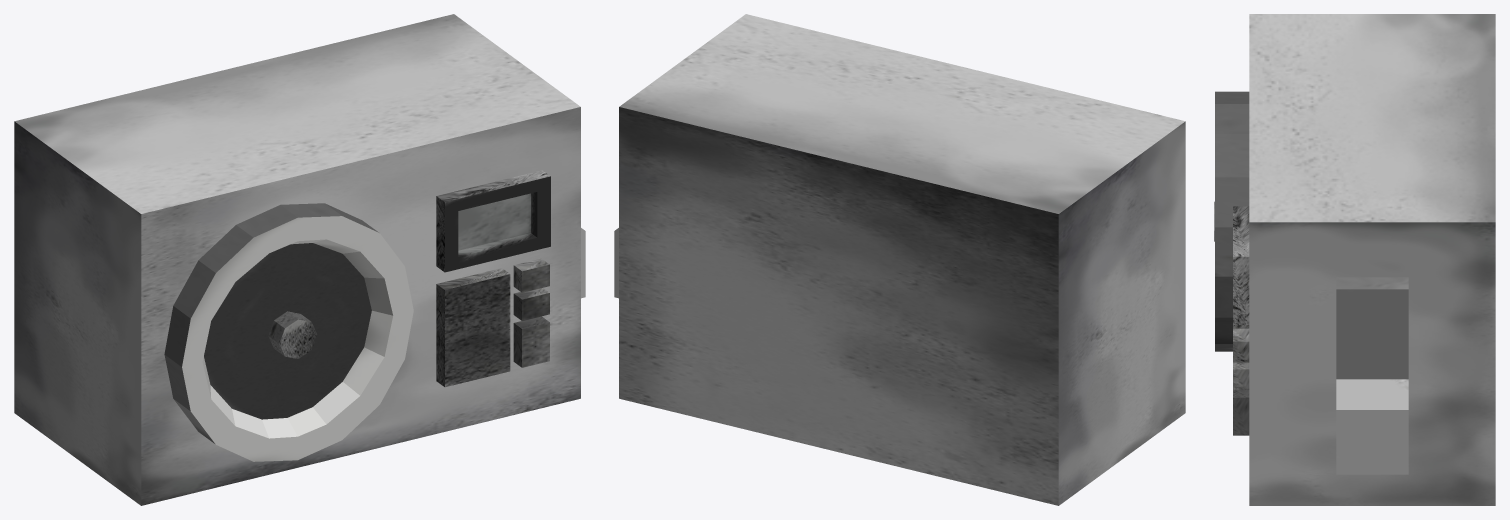
File: aircon2.fbx
3 renders of one model, left to right at view 1: azimuth 30°, elevation 25°; view 2: azimuth 150°, elevation 25°; view 3: azimuth 270°, elevation 25°, orthographic. The views are drawn at different scales.
Parts seen in each view (by area): view 1: Cube.026; view 2: Cube.026; view 3: Cube.026.
Boxes of the visible parts, left/top/right/bottom form: Cube.026: left=14, top=14, right=585, bottom=505; Cube.026: left=614, top=14, right=1185, bottom=505; Cube.026: left=1214, top=14, right=1495, bottom=505.
Size of the model in its own units: 83.45 by 47.57 by 42.8.
Materials: 1 (1 with a texture image).
